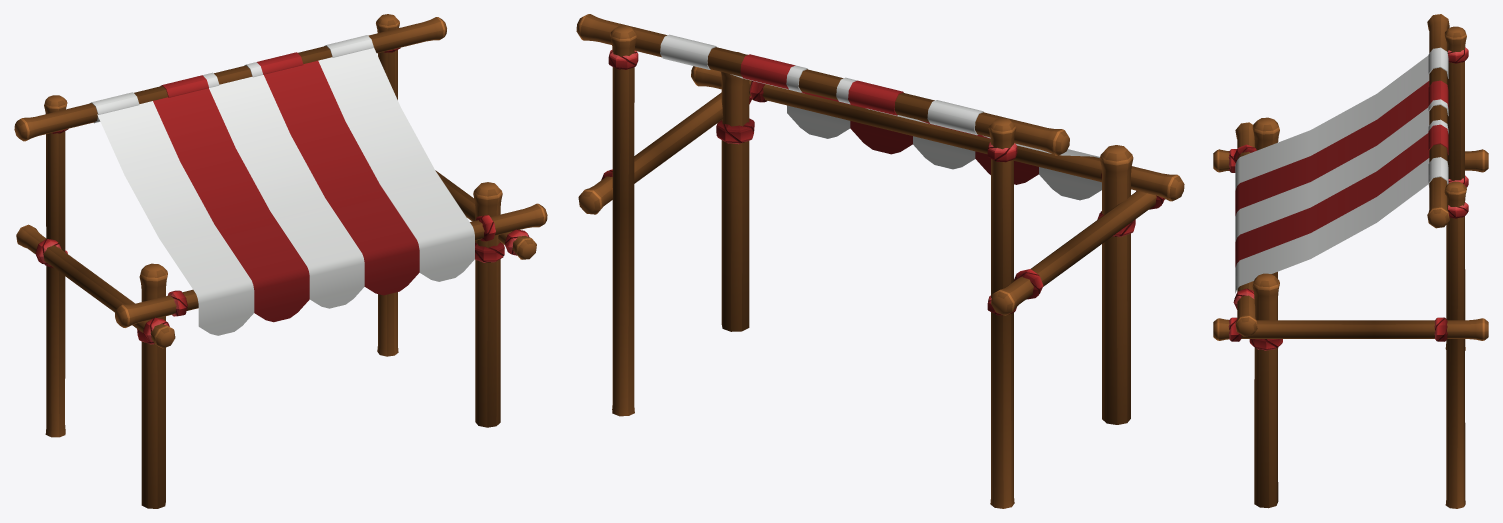
The model's file is Stall-1-3.fbx.
3 views of the same model, side by side, from view 1: azimuth 30°, elevation 25°; view 2: azimuth 150°, elevation 25°; view 3: azimuth 270°, elevation 25° (orthographic). The views are drawn at different scales.
Parts seen in each view (by area): view 1: Stall-1-3; view 2: Stall-1-3; view 3: Stall-1-3.
Part boxes in pixels (left/top/right/bottom): Stall-1-3: left=14, top=14, right=547, bottom=508; Stall-1-3: left=576, top=14, right=1184, bottom=508; Stall-1-3: left=1213, top=14, right=1488, bottom=508.
Bounding box in the file's own units: 521 × 392 × 305.
